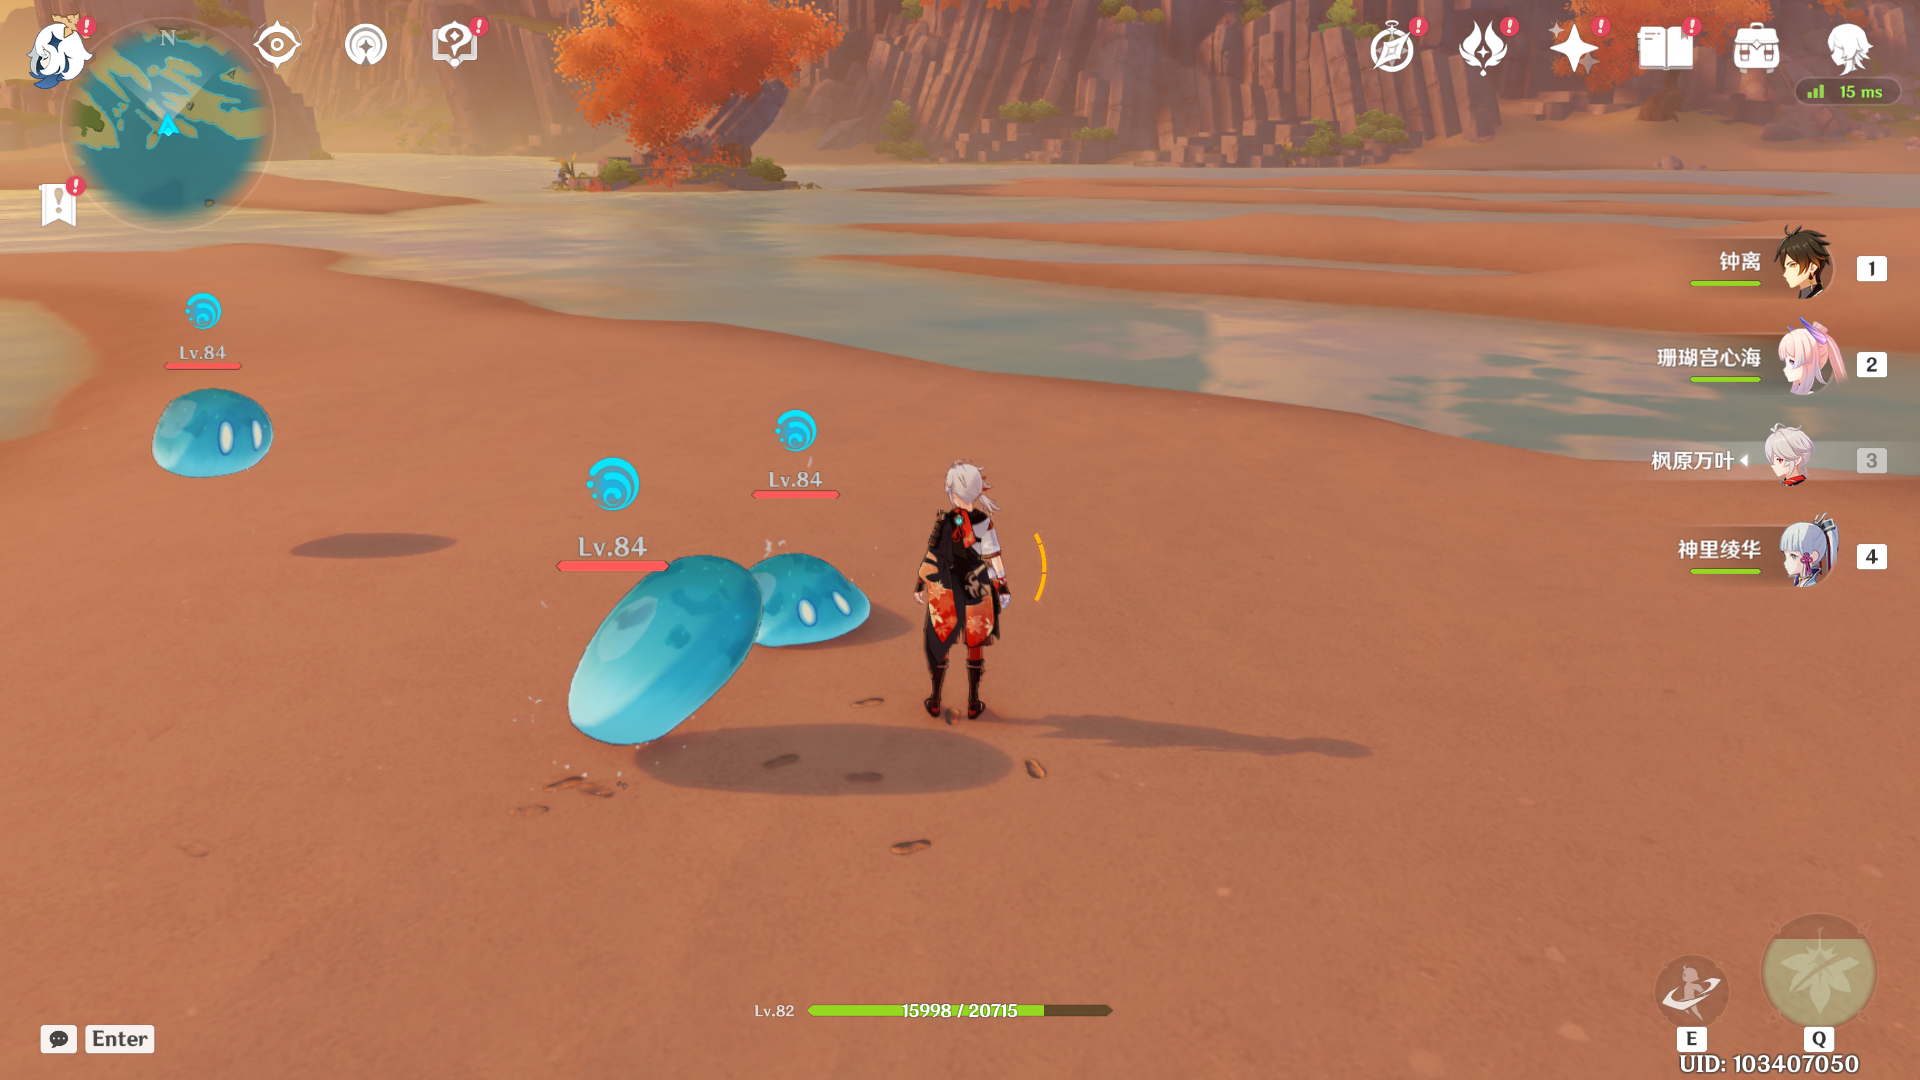slime: (545, 541, 786, 803), (731, 541, 882, 654), (138, 382, 287, 483)
